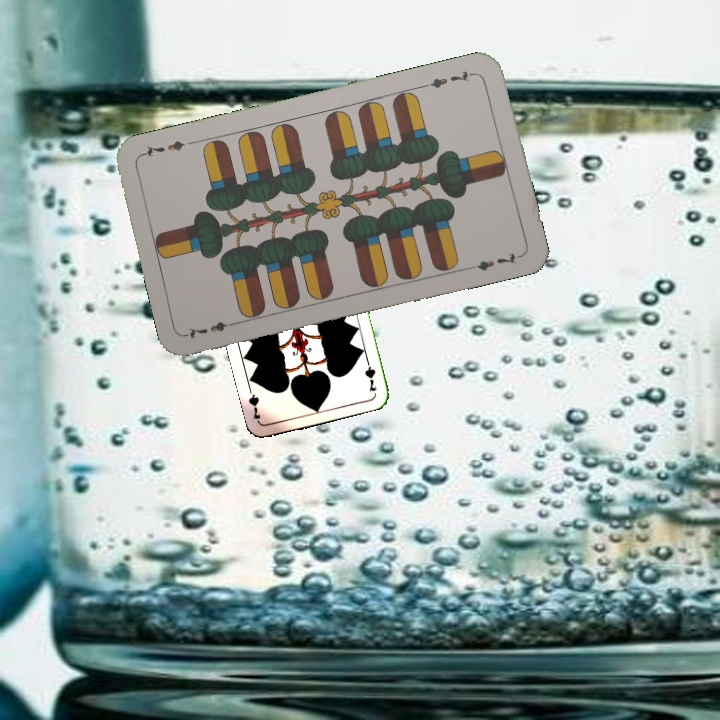E7: (421, 66, 479, 91), (183, 317, 241, 341)
G7: (361, 353, 379, 394)
